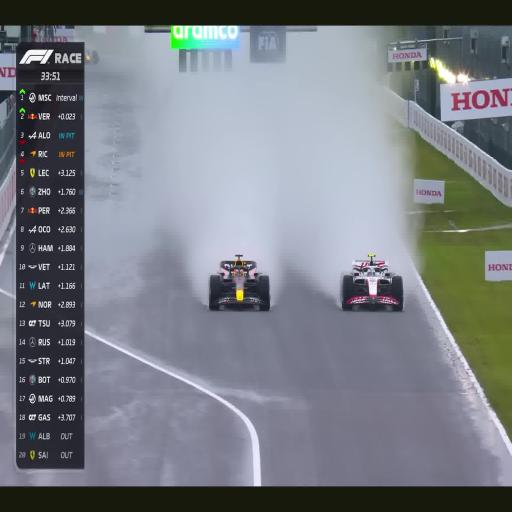f1_car: (340, 254, 403, 311), (209, 254, 270, 311)
